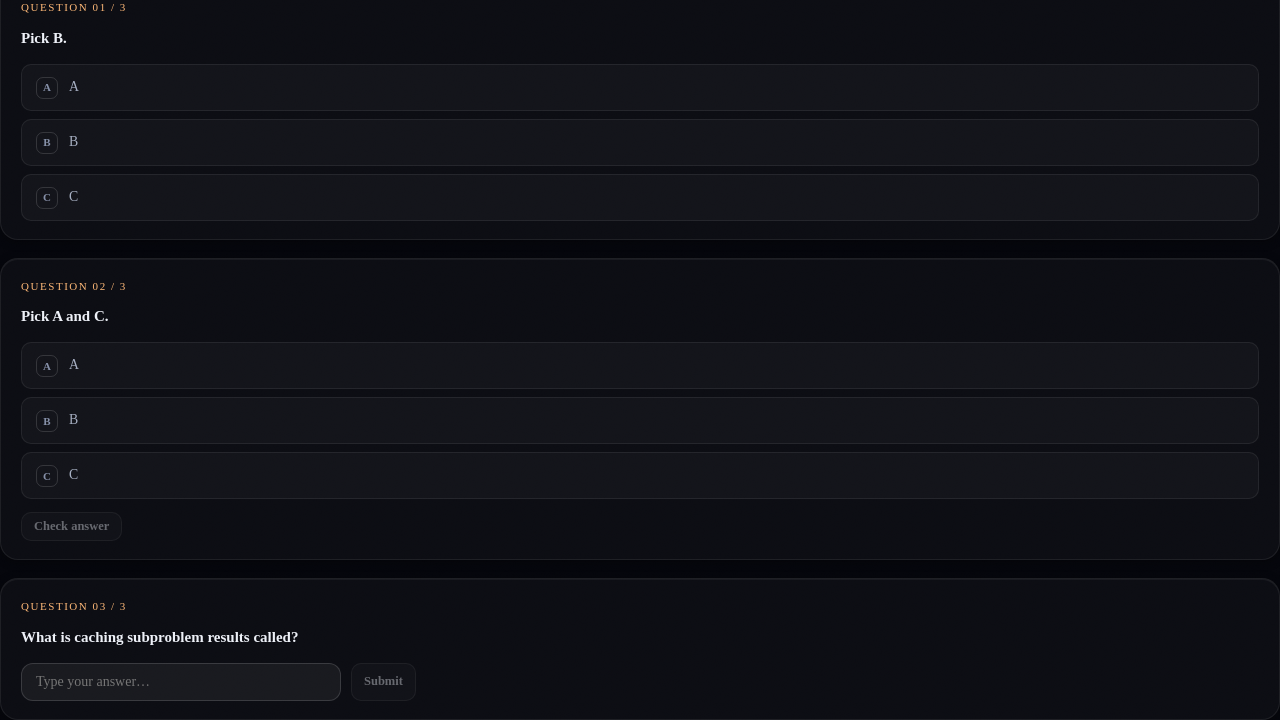
Test: quiz interaction › labels the fill-in box and ignores the Enter that ends an IME composition
(page scrolled)
Step 1. Type "ji yi" into the field named "Answer to question 3" → (181, 682), box [21,663,341,701]
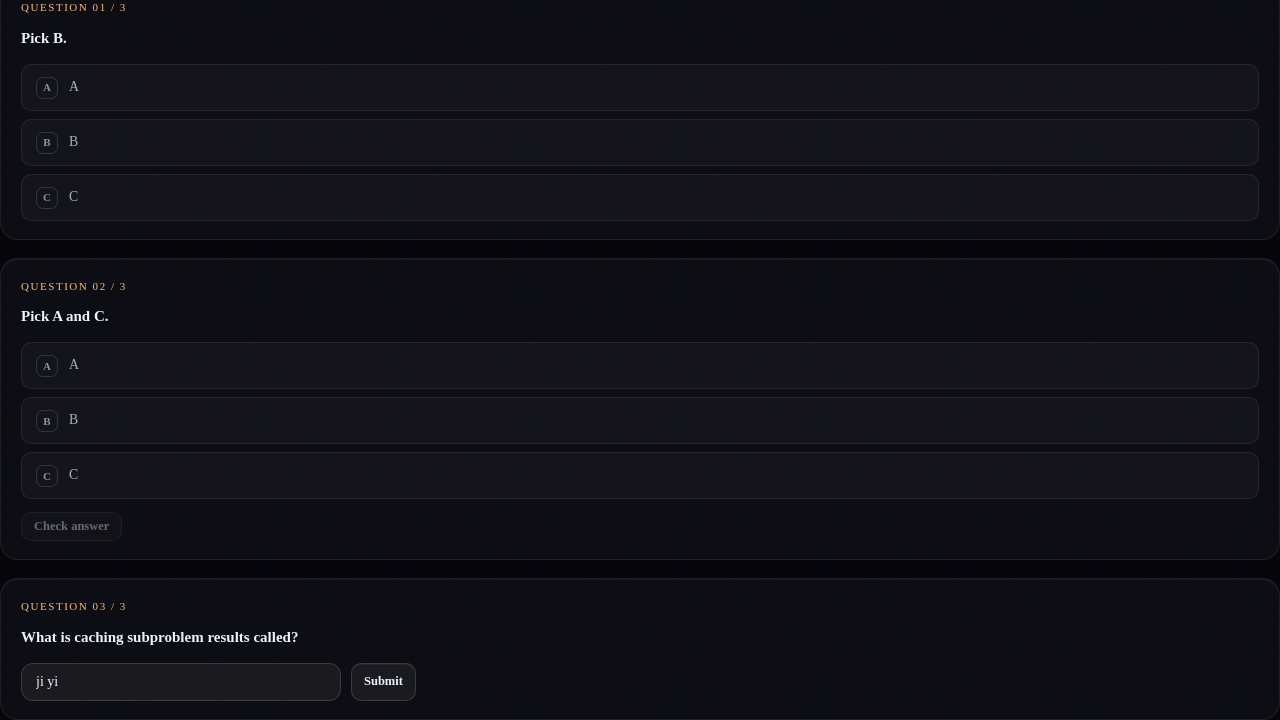
Step 2. Press Enter in the field named "Answer to question 3", box [21,663,341,701]
Expected: the text "Not quite" is not shown
Step 3. Press Enter in the field named "Answer to question 3", box [21,663,341,701]
(page scrolled)
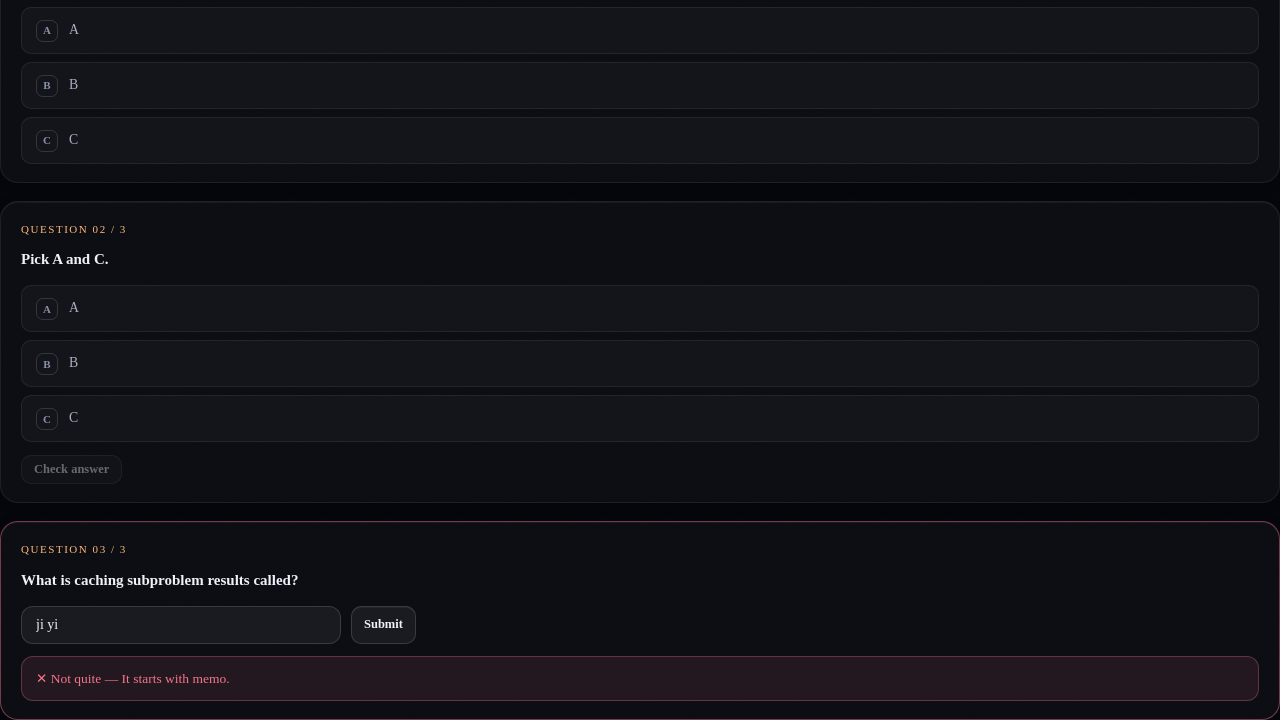
Result: the text "✕ Not quite — It starts with memo." is shown at [21,656,1259,701]
